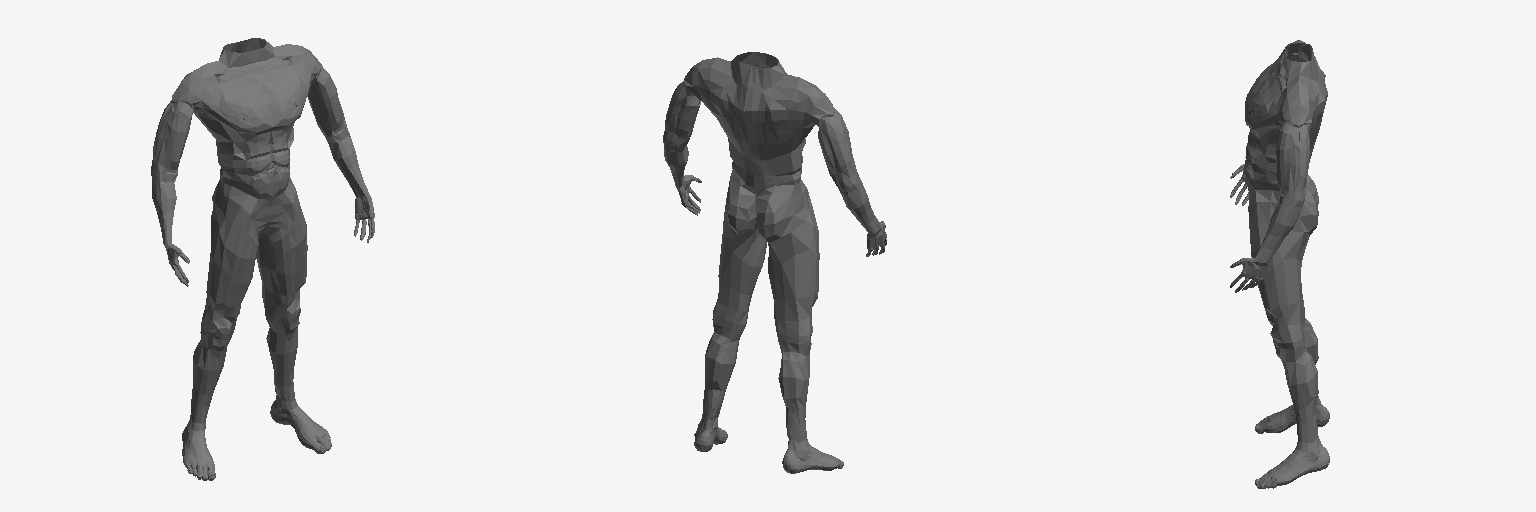
The model's file is body.obj.
3 views of the same model, side by side, from view 1: azimuth 30°, elevation 25°; view 2: azimuth 150°, elevation 25°; view 3: azimuth 270°, elevation 25° (orthographic).
Parts seen in each view (by area): view 1: CorrectyBodyWithFoot:Mesh1 CorrectyBodyWithFoot:group CorrectyBo, CorrectyBodyWithFoot:Mesh1 CorrectyBodyWithFoot:polySurface1; view 2: CorrectyBodyWithFoot:Mesh1 CorrectyBodyWithFoot:group CorrectyBo, CorrectyBodyWithFoot:Mesh1 CorrectyBodyWithFoot:polySurface1; view 3: CorrectyBodyWithFoot:Mesh1 CorrectyBodyWithFoot:group CorrectyBo, CorrectyBodyWithFoot:Mesh1 CorrectyBodyWithFoot:polySurface1.
Boxes of the visible parts, x1,y1,x2,y2 form: CorrectyBodyWithFoot:Mesh1 CorrectyBodyWithFoot:group CorrectyBo: [151, 38, 374, 406]; CorrectyBodyWithFoot:Mesh1 CorrectyBodyWithFoot:polySurface1: [182, 382, 331, 480]; CorrectyBodyWithFoot:Mesh1 CorrectyBodyWithFoot:group CorrectyBo: [663, 52, 886, 429]; CorrectyBodyWithFoot:Mesh1 CorrectyBodyWithFoot:polySurface1: [694, 402, 843, 473]; CorrectyBodyWithFoot:Mesh1 CorrectyBodyWithFoot:group CorrectyBo: [1230, 40, 1327, 427]; CorrectyBodyWithFoot:Mesh1 CorrectyBodyWithFoot:polySurface1: [1255, 396, 1329, 488].
Bounding box in the file's own units: 44.03 × 84.01 × 18.68.